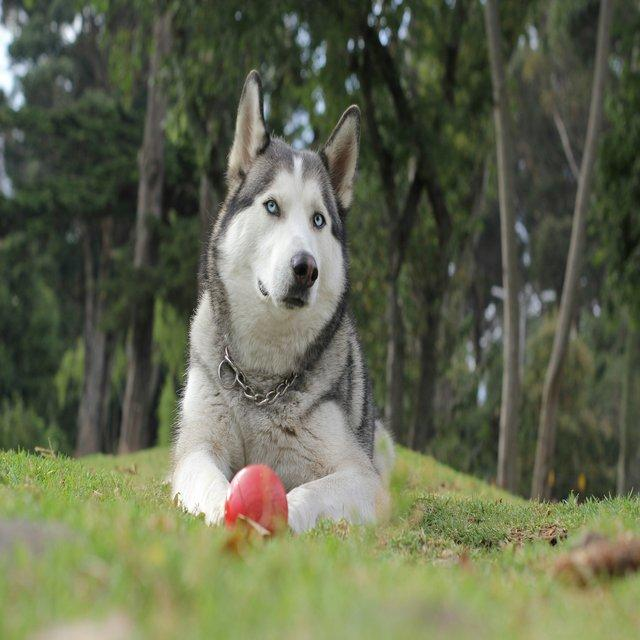husky: (168, 68, 397, 536)
